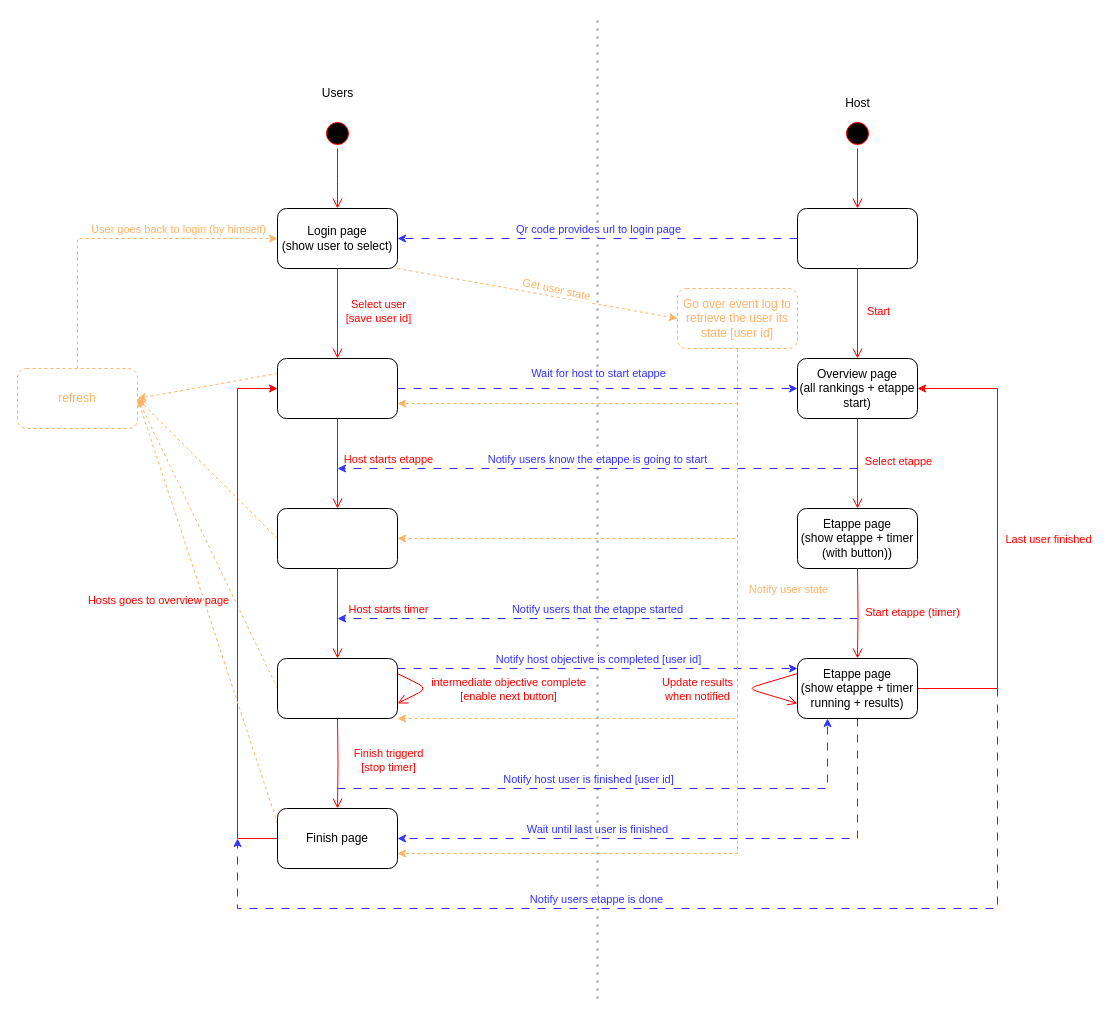
This 1108x1017 diagram has some shape labels left out. Here are the shapes that lost their labels. From the top down, the centre of each, then its label:
At (x=857, y=238): "Home page (qr code)".
At (x=337, y=388): "Overview page (personal ranking)".
At (x=337, y=538): "Etappe page (buttons disabled)".
At (x=337, y=688): "Etappe page (buttons enabled)".
